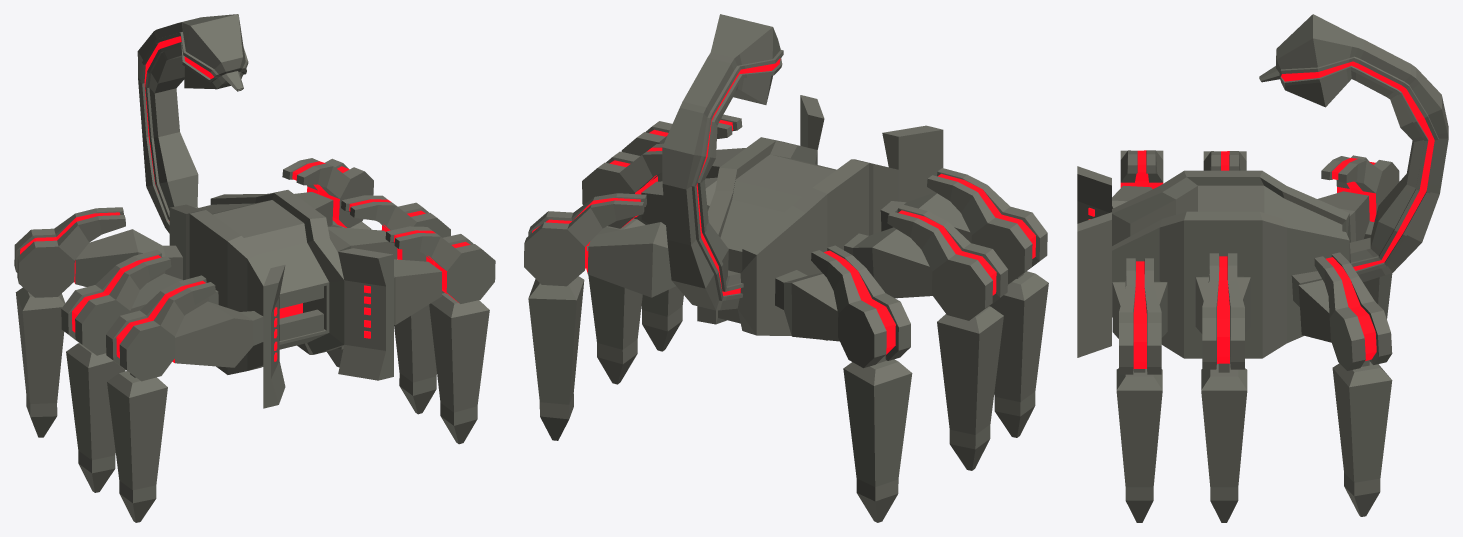
Rendered from ScorpION.fbx.
The picture shows the model from 3 angles, left to right: view 1: azimuth 30°, elevation 25°; view 2: azimuth 150°, elevation 25°; view 3: azimuth 270°, elevation 25°; orthographic projection. The views are drawn at different scales.
Visible parts, largest first — view 1: ScorpION; view 2: ScorpION; view 3: ScorpION.
Part boxes in pixels (x1,y1,x2,y2): ScorpION: (14, 14, 495, 522); ScorpION: (524, 14, 1048, 522); ScorpION: (1077, 14, 1448, 522).
Bounding box in the file's own units: 187 × 193 × 156.
